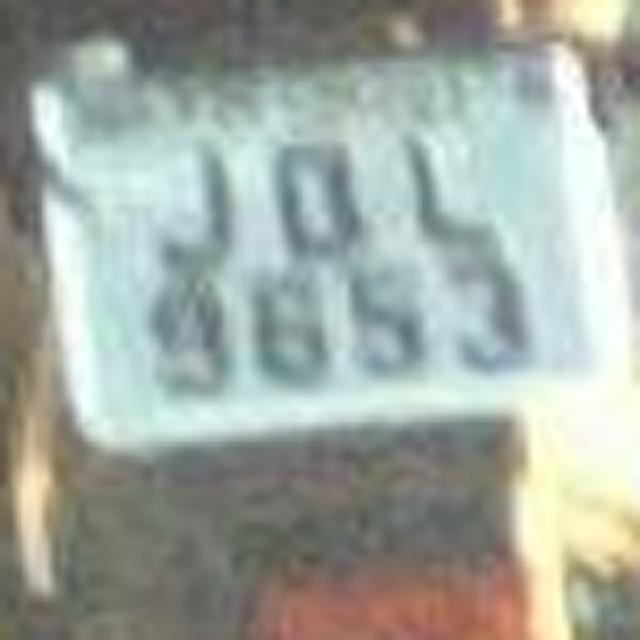5: (420, 216, 548, 404), (332, 244, 436, 408)
6: (235, 244, 340, 404)
9: (140, 248, 232, 404)
J: (149, 120, 256, 272), (404, 120, 508, 272)
